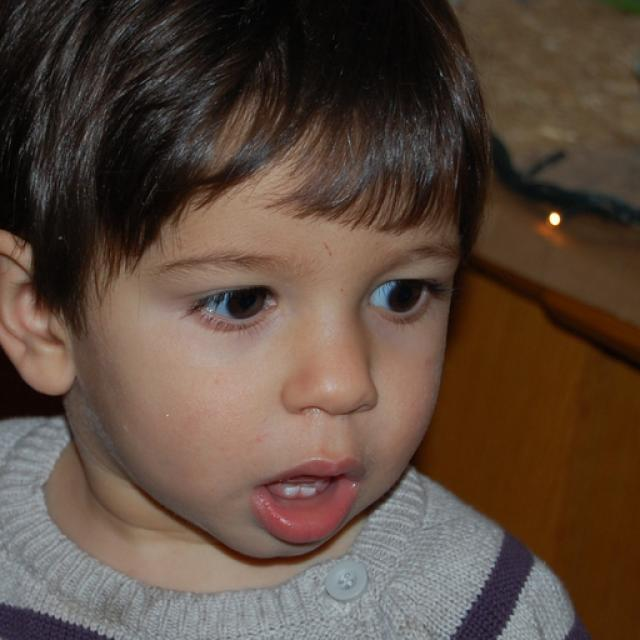surprise: (76, 82, 457, 560)
